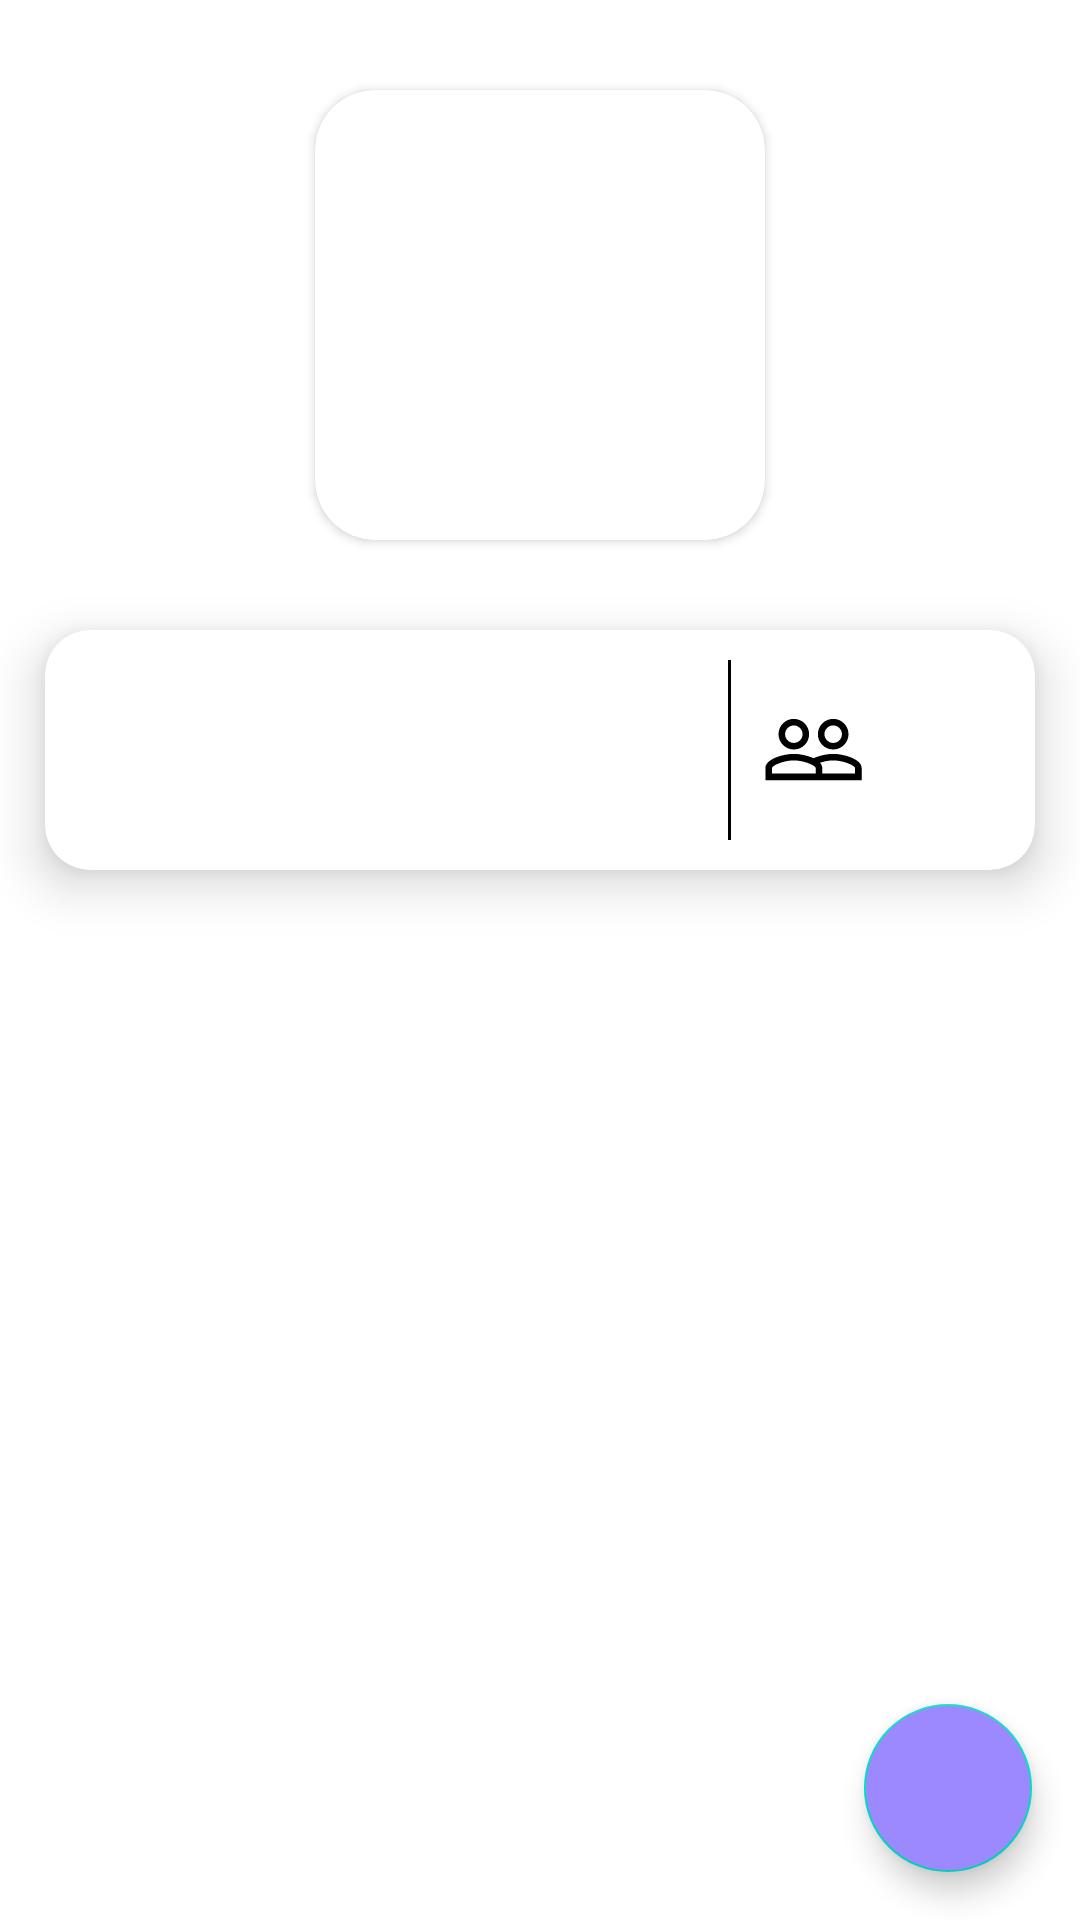

Screen size 1080px×1920px. Icon name, then its center in pixels as (x,y):
people: (813,750)
